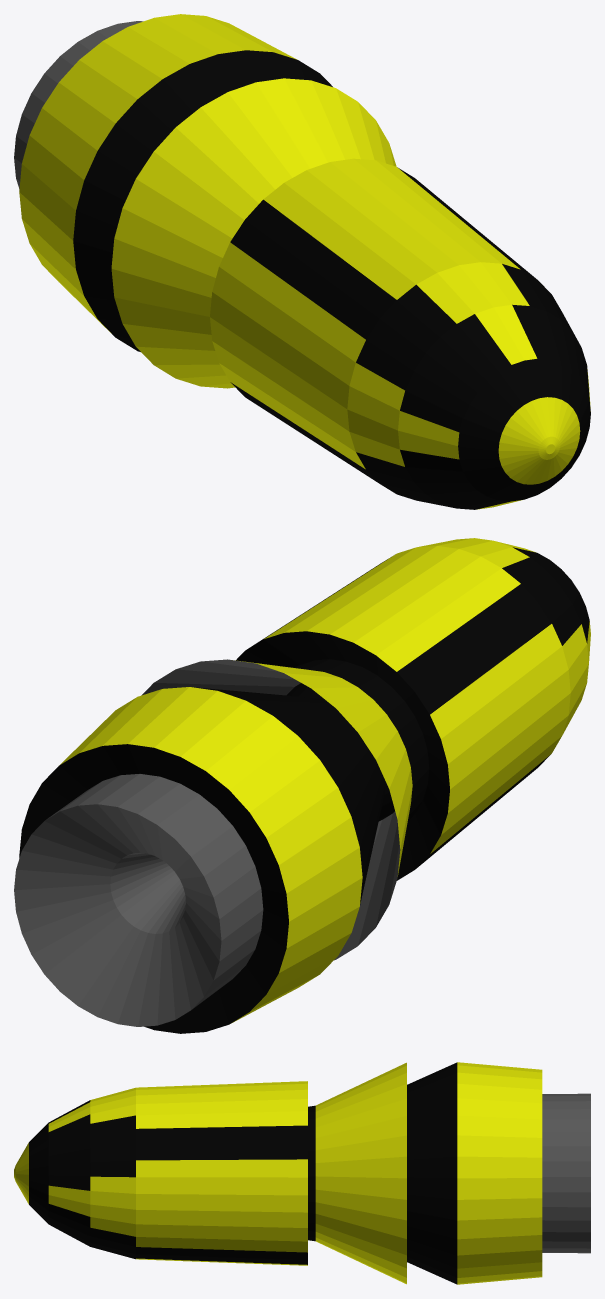
The model's file is Rocket8.fbx.
3 renders of one model, top to bottom at view 1: azimuth 30°, elevation 25°; view 2: azimuth 150°, elevation 25°; view 3: azimuth 270°, elevation 25°, orthographic. The views are drawn at different scales.
Visible parts, largest first — view 1: Cylinder; view 2: Cylinder; view 3: Cylinder.
Boxes of the visible parts, box(x1,y1,x2,y2) form: Cylinder: box(14, 14, 590, 509); Cylinder: box(14, 538, 590, 1033); Cylinder: box(14, 1062, 590, 1284).
Size of the model in its own units: 0.7547 by 0.7547 by 1.96.
